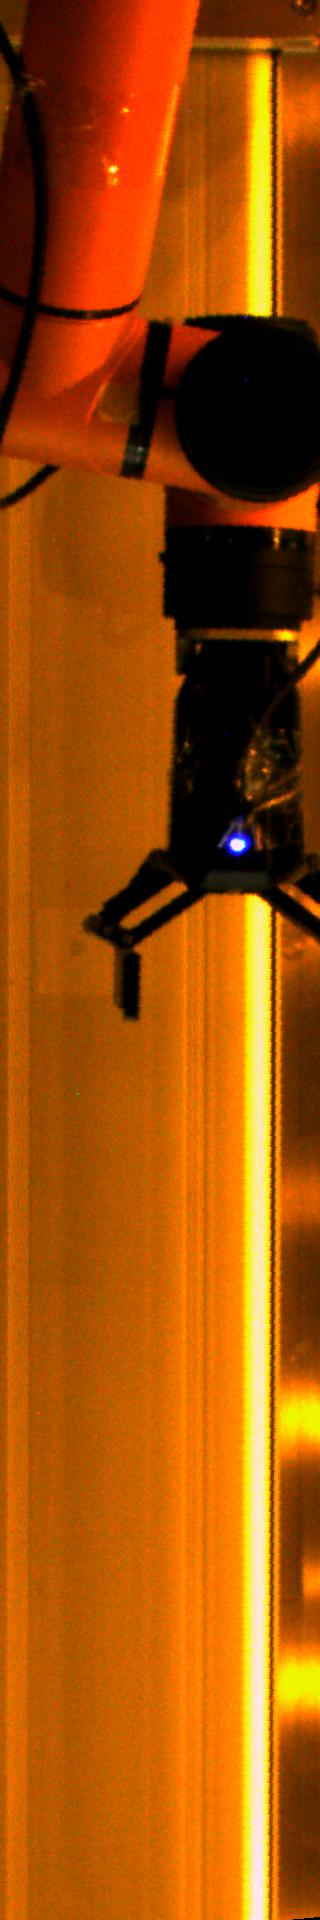keyPoint_1: (223, 828, 253, 858)
